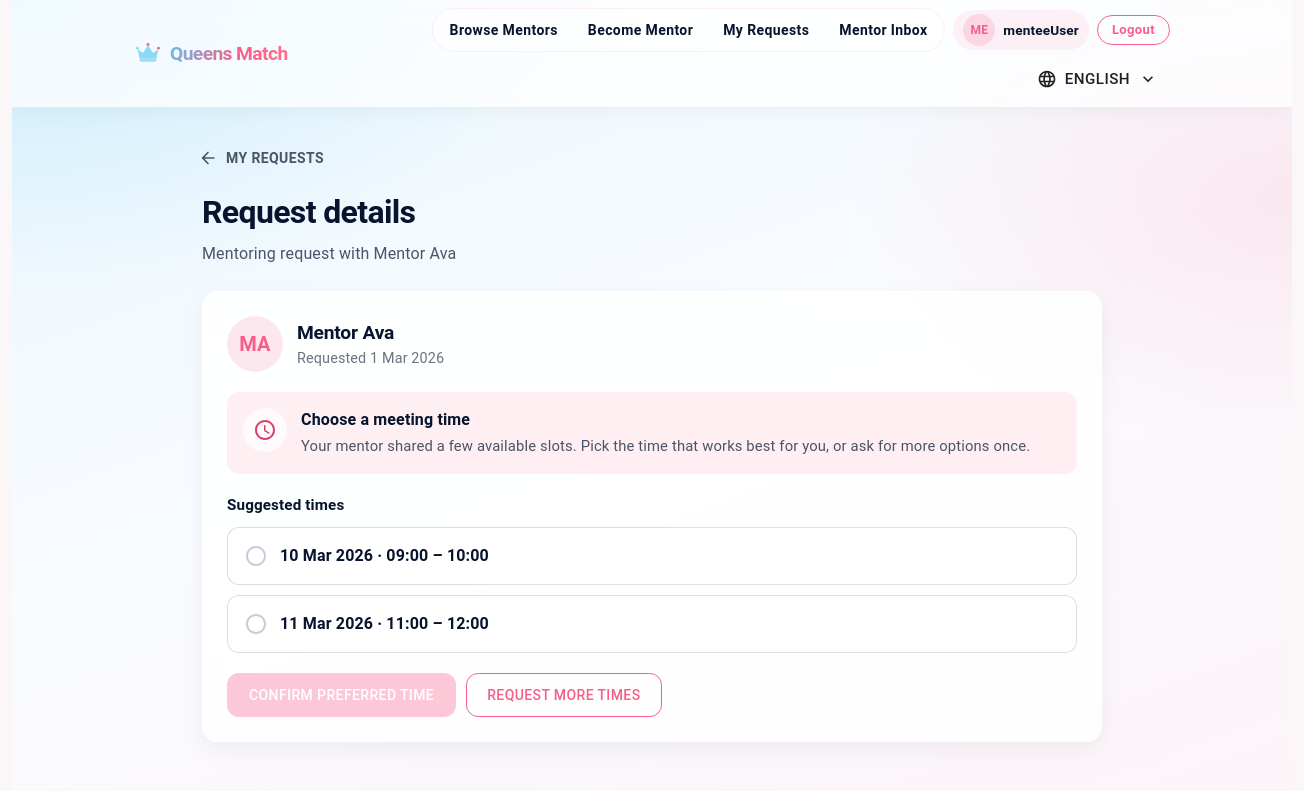
Test: RequestDetailsPage › request more times updates UI and disables the button
The width and height of the screenshot is (1304, 791).
Click the button "Request more times".
click(564, 695)  # box [466,672,662,717]
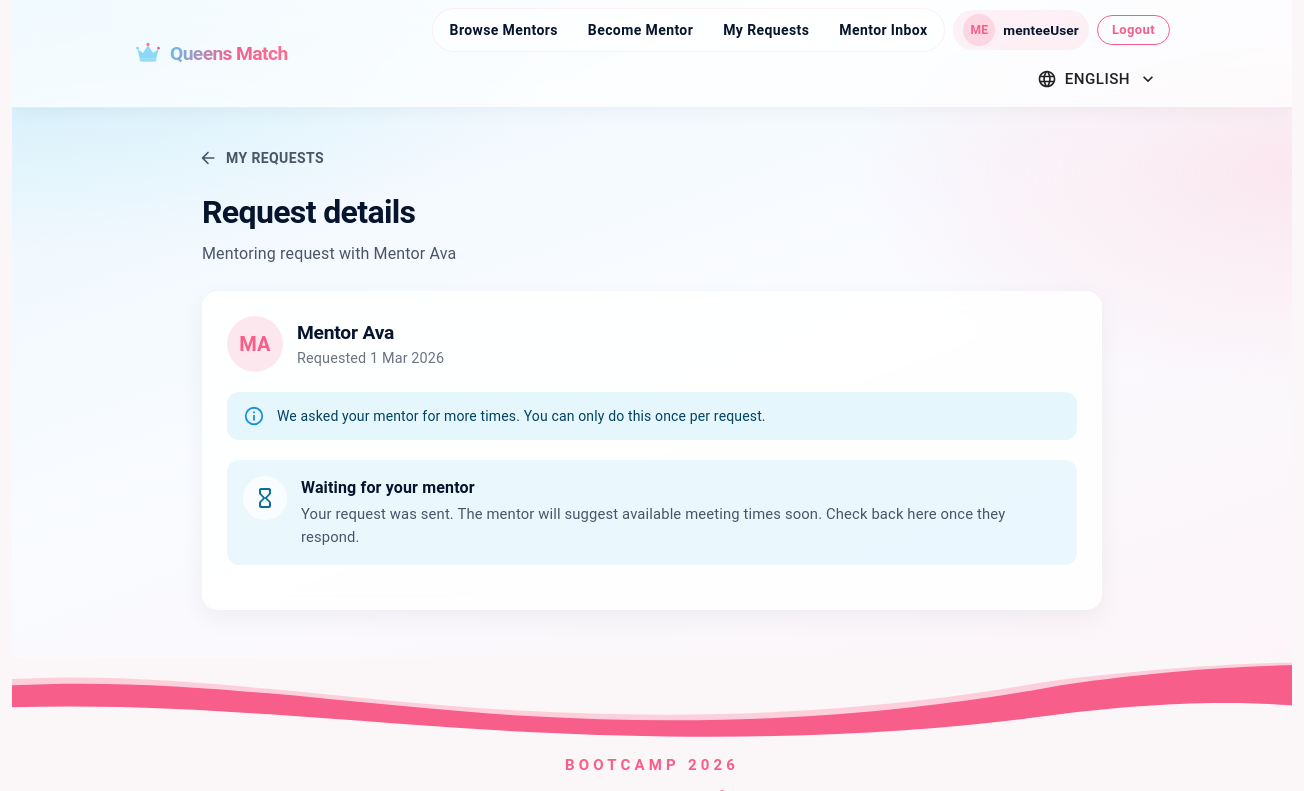
Check: the text "We asked your mentor for more times" is shown, box [277,408,766,424]
Check: the text "Waiting for your mentor" is shown, box [301,478,475,497]
